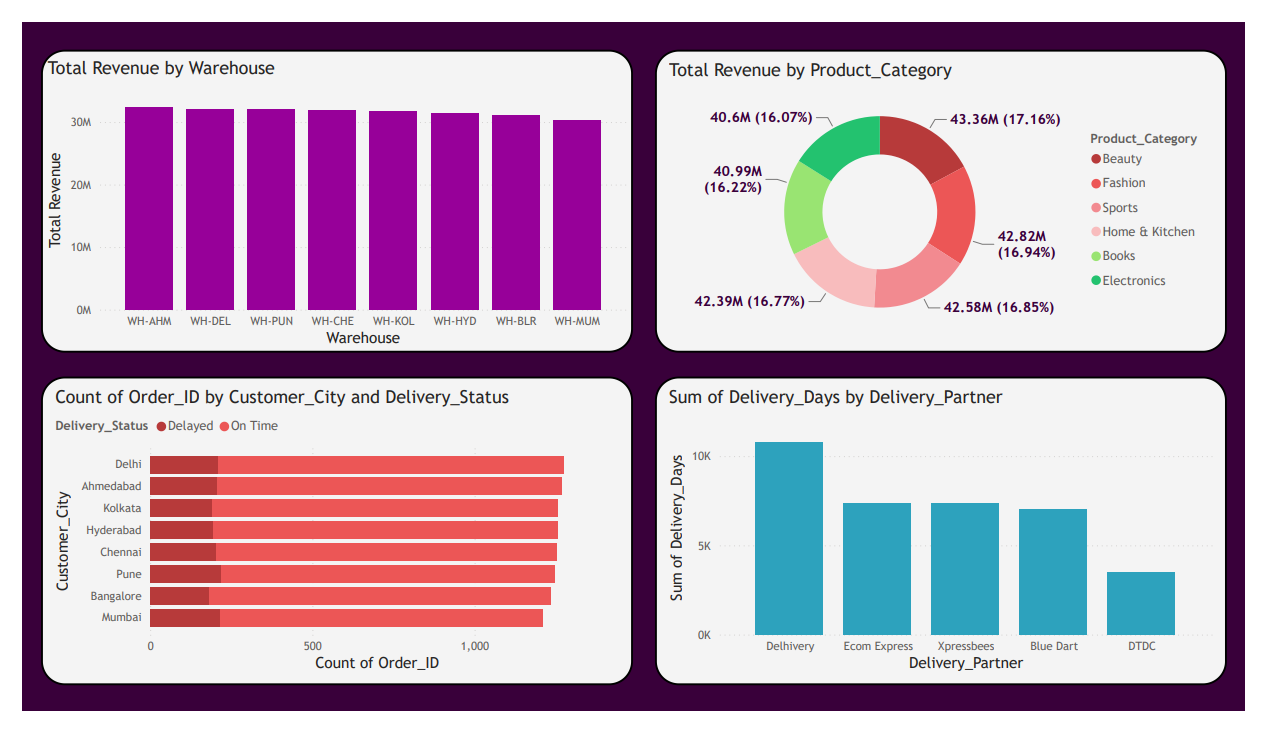

The dashboard page shown, as its layout file describes it:
{"tool":"powerbi","page":{"name":"Page 2","canvas":[1280,720],"ordinal":1},"visuals":[{"type":"clusteredColumnChart","fields":{"Category":["Supply_Chain_Logistics_Analytics_10000Rows.Warehouse"],"Y":["Supply_Chain_Logistics_Analytics_10000Rows.Total Revenue"]},"box":[20,28.3,620,316.7],"z":0},{"type":"barChart","fields":{"Category":["Supply_Chain_Logistics_Analytics_10000Rows.Customer_City"],"Y":["CountNonNull(Supply_Chain_Logistics_Analytics_10000Rows.Order_ID)"],"Series":["Supply_Chain_Logistics_Analytics_10000Rows.Delivery_Status"]},"box":[20,370,620,323.3],"z":1000},{"type":"columnChart","fields":{"Category":["Supply_Chain_Logistics_Analytics_10000Rows.Delivery_Partner"],"Y":["Sum(Supply_Chain_Logistics_Analytics_10000Rows.Delivery_Days)"]},"box":[663.3,370,598.3,323.3],"z":2000},{"type":"donutChart","fields":{"Category":["Supply_Chain_Logistics_Analytics_10000Rows.Product_Category"],"Y":["Supply_Chain_Logistics_Analytics_10000Rows.Total Revenue"]},"box":[663.3,28.3,598.3,316.7],"z":3000}]}

Visuals, with their boxes in screenshot pixels (x1, y1, x2, y2), scaled from the page's 1280x720 canvas onto the 1262x731 screenshot:
clusteredColumnChart - Supply_Chain_Logistics_Analytics_10000Rows.Warehouse x Supply_Chain_Logistics_Analytics_10000Rows.Total Revenue: <box>20,29,631,350</box>
barChart - Supply_Chain_Logistics_Analytics_10000Rows.Customer_City x CountNonNull(Supply_Chain_Logistics_Analytics_10000Rows.Order_ID): <box>20,376,631,704</box>
columnChart - Supply_Chain_Logistics_Analytics_10000Rows.Delivery_Partner x Sum(Supply_Chain_Logistics_Analytics_10000Rows.Delivery_Days): <box>654,376,1244,704</box>
donutChart - Supply_Chain_Logistics_Analytics_10000Rows.Product_Category x Supply_Chain_Logistics_Analytics_10000Rows.Total Revenue: <box>654,29,1244,350</box>
